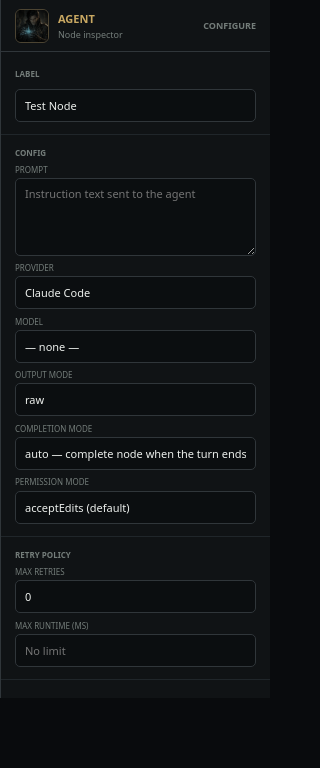
NodeInspector — agent provider/model selector › shows a free-form model input when Other... is selected
Select "Other..." in the dropdown named "Other..." below "MODEL" at (136, 346), box [15,330,256,363]
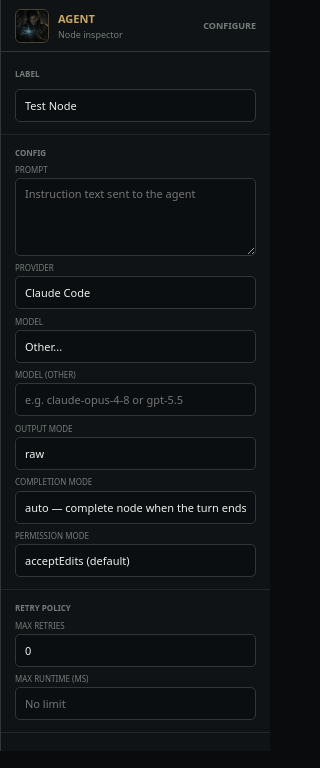
Check: the field with placeholder "e.g. claude-opus-4-8 or gpt-5.5" is shown, box [15,384,256,416]
